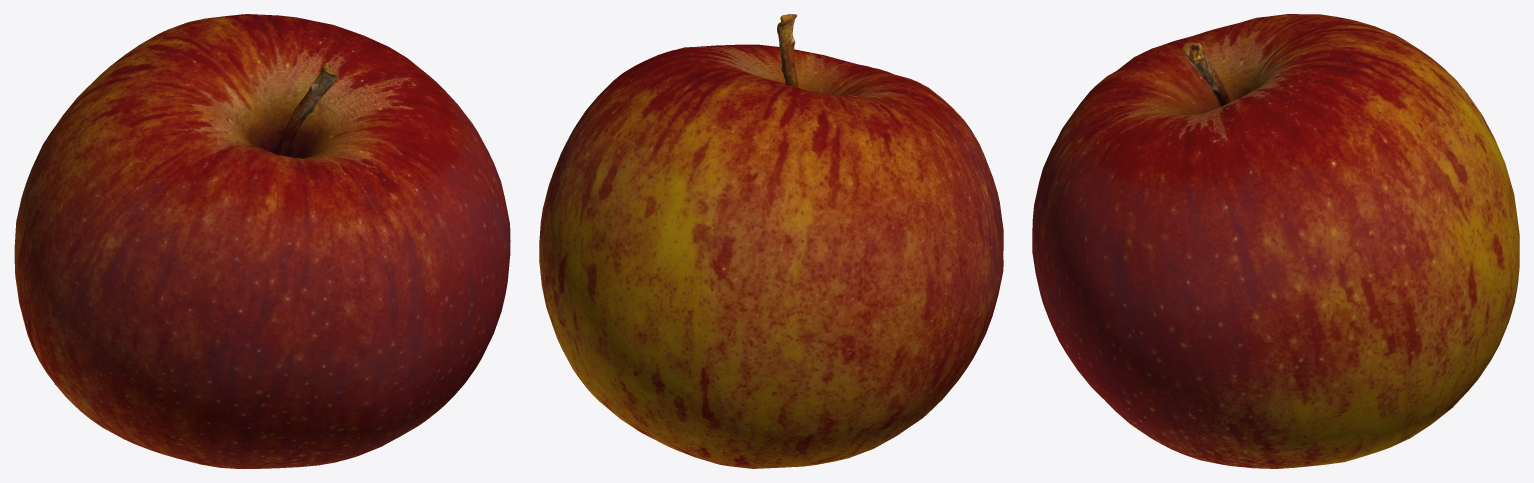
File: food_apple_01.glb
3 renders of one model, left to right at view 1: azimuth 30°, elevation 25°; view 2: azimuth 150°, elevation 25°; view 3: azimuth 270°, elevation 25°, orthographic. The views are drawn at different scales.
Parts seen in each view (by area): view 1: food_apple_01; view 2: food_apple_01; view 3: food_apple_01.
Part boxes in pixels (left/top/right/bottom): food_apple_01: left=14, top=14, right=510, bottom=468; food_apple_01: left=539, top=14, right=1003, bottom=468; food_apple_01: left=1032, top=14, right=1519, bottom=468.
Bounding box in the file's own units: 0.0976 × 0.0854 × 0.0959.
Materials: 1 (1 with a texture image).
